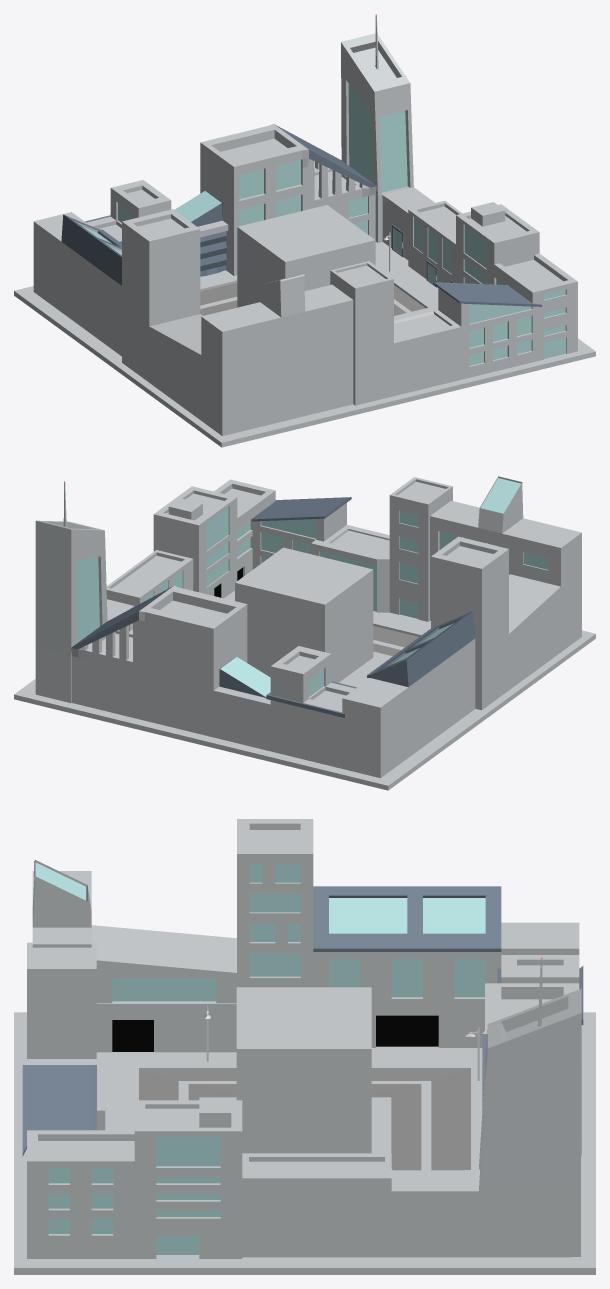
Rendered from ville3.glb.
The picture shows the model from 3 angles, top to bottom: view 1: azimuth 30°, elevation 25°; view 2: azimuth 150°, elevation 25°; view 3: azimuth 270°, elevation 25°; orthographic projection. The views are drawn at different scales.
Parts seen in each view (by area): view 1: Cube.001, Cube, Cube.009; view 2: Cube.001, Cube.009, Cube; view 3: Cube.001, Cube, Cube.009.
Boxes of the visible parts, box(x1,y1,x2,y2) form: Cube.001: box(33, 14, 577, 435); Cube: box(14, 242, 595, 447); Cube.009: box(237, 205, 375, 307); Cube.001: box(35, 476, 581, 778); Cube.009: box(235, 547, 373, 682); Cube: box(14, 590, 595, 790); Cube.001: box(22, 819, 583, 1258); Cube: box(14, 1012, 595, 1274); Cube.009: box(236, 987, 371, 1153).
Bounding box in the file's own units: 250 × 135 × 240.
